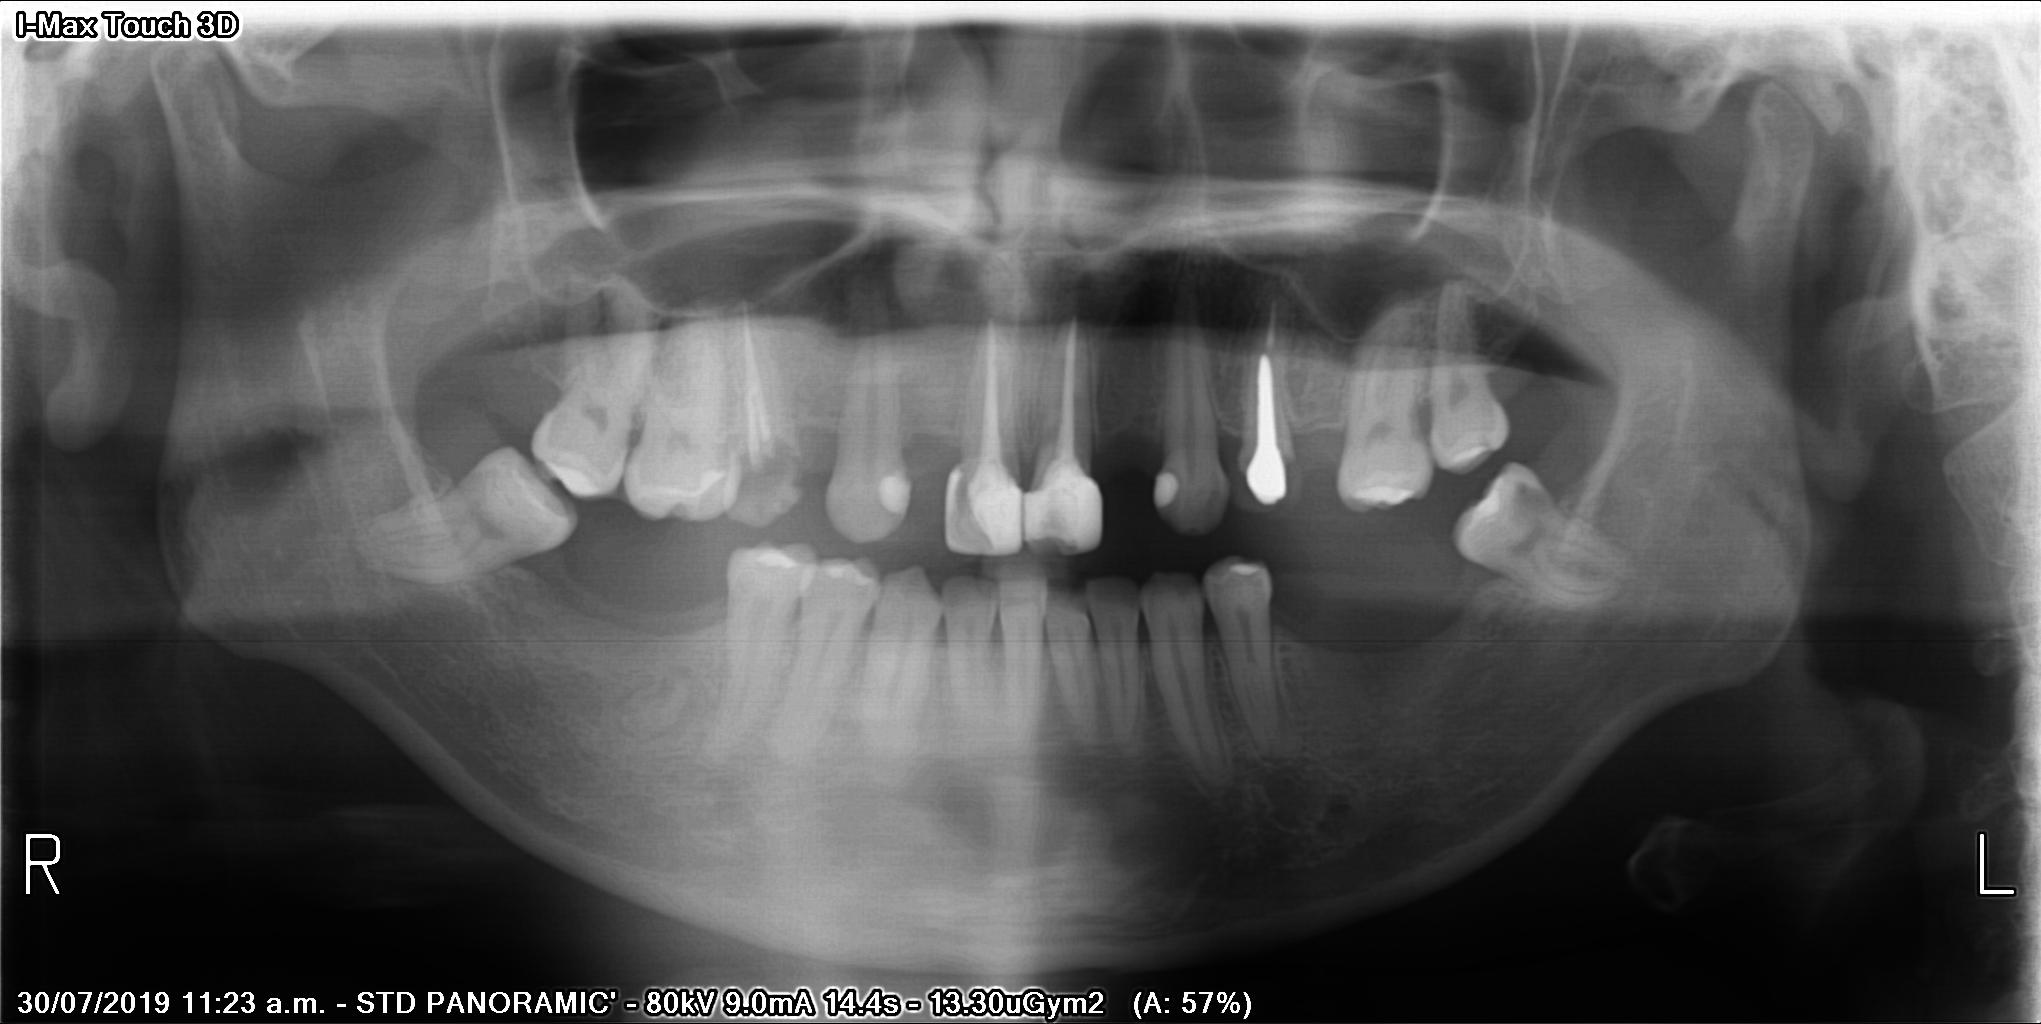Çürük: (1239, 350, 1305, 529), (1022, 473, 1115, 555), (951, 458, 1016, 547), (875, 469, 917, 517), (1140, 475, 1182, 513)
Çürük Bölgesi: (1503, 475, 1568, 543), (740, 441, 803, 509)
